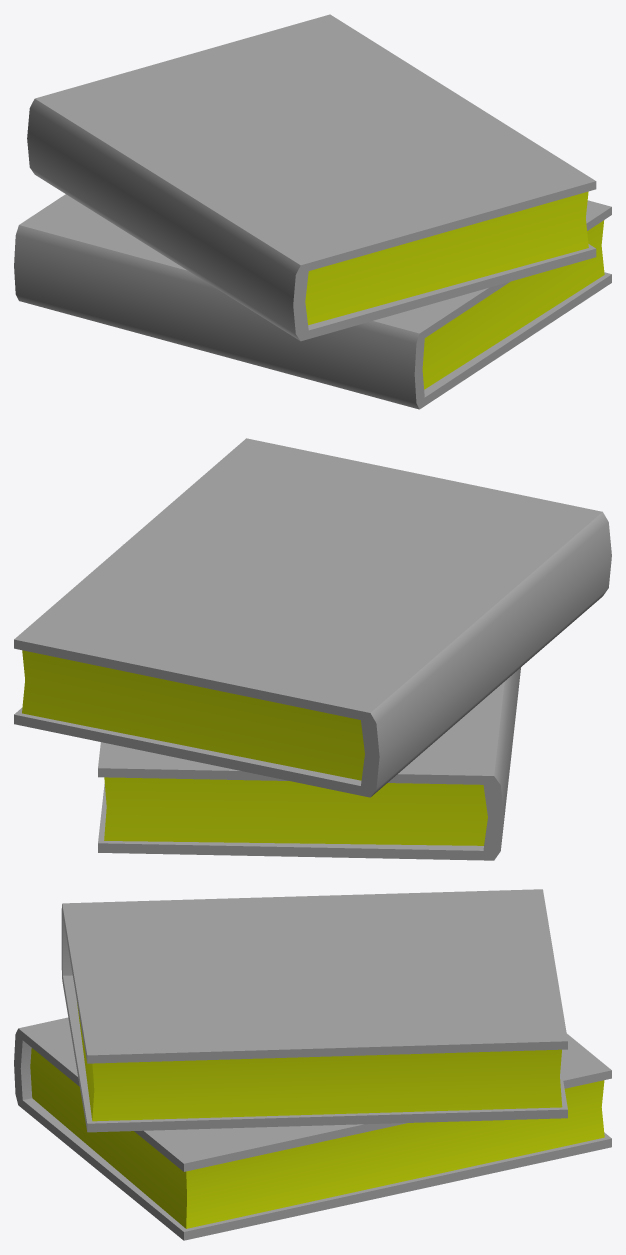
File: book_stack_02_asset.fbx
The picture shows the model from 3 angles, top to bottom: view 1: azimuth 30°, elevation 25°; view 2: azimuth 150°, elevation 25°; view 3: azimuth 270°, elevation 25°; orthographic projection. The views are drawn at different scales.
Parts seen in each view (by area): view 1: book_stack_02_asset; view 2: book_stack_02_asset; view 3: book_stack_02_asset.
Boxes of the visible parts, box(x1,y1,x2,y2) form: book_stack_02_asset: box(14, 14, 611, 409); book_stack_02_asset: box(14, 438, 611, 860); book_stack_02_asset: box(14, 889, 611, 1240).
Size of the model in its own units: 0.6674 by 0.2061 by 0.7257.
